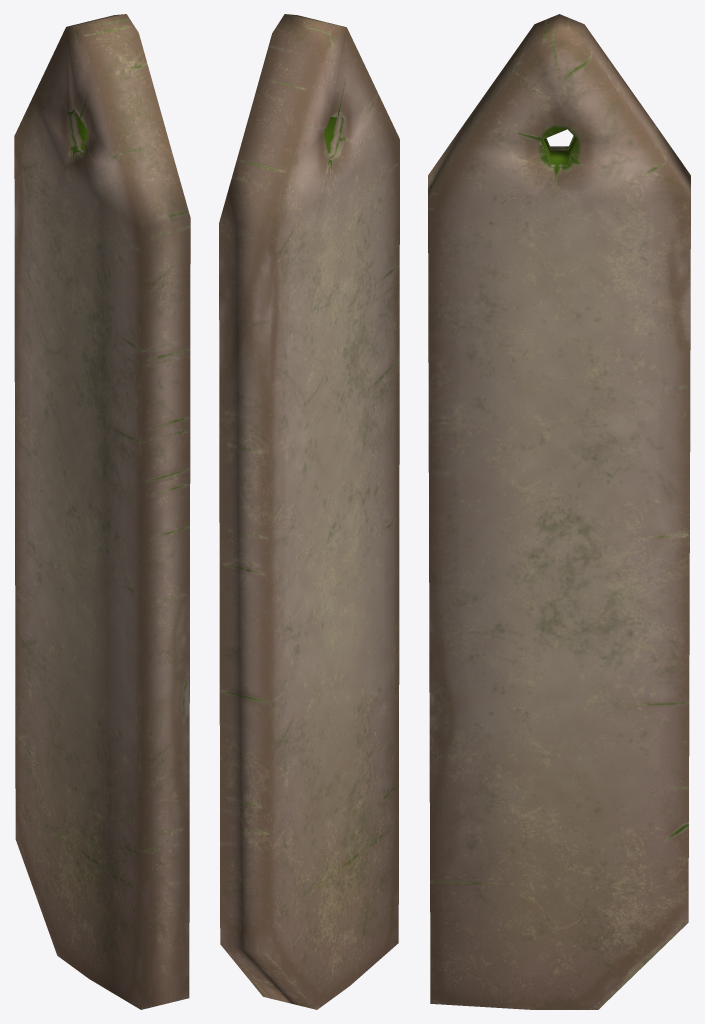
The model's file is Rune04_low_03.fbx.
3 renders of one model, left to right at view 1: azimuth 30°, elevation 25°; view 2: azimuth 150°, elevation 25°; view 3: azimuth 270°, elevation 25°, orthographic. The views are drawn at different scales.
Parts seen in each view (by area): view 1: Rune04_low3; view 2: Rune04_low3; view 3: Rune04_low3.
Boxes of the visible parts, x1,y1,x2,y2 form: Rune04_low3: (14,14,190,1009); Rune04_low3: (219,14,399,1009); Rune04_low3: (428,14,690,1009).
Size of the model in its own units: 0.7 by 11.99 by 2.94.
Materials: 1 (1 with a texture image).
